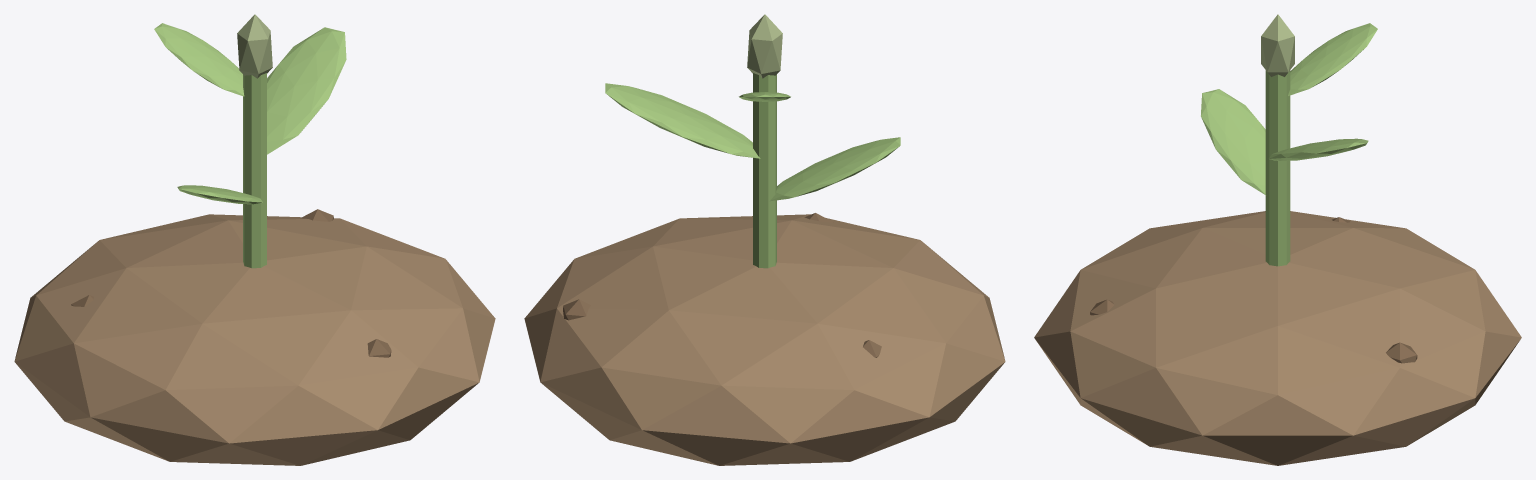
The model's file is planta.glb.
3 views of the same model, side by side, from view 1: azimuth 30°, elevation 25°; view 2: azimuth 150°, elevation 25°; view 3: azimuth 270°, elevation 25° (orthographic).
Parts seen in each view (by area): view 1: agro_planta_00; view 2: agro_planta_00; view 3: agro_planta_00.
Part boxes in pixels (bbox=[...]): agro_planta_00: bbox=[14, 14, 495, 465]; agro_planta_00: bbox=[524, 14, 1005, 465]; agro_planta_00: bbox=[1034, 14, 1521, 465].
Bounding box in the file's own units: 1.14 × 1.09 × 1.2.
